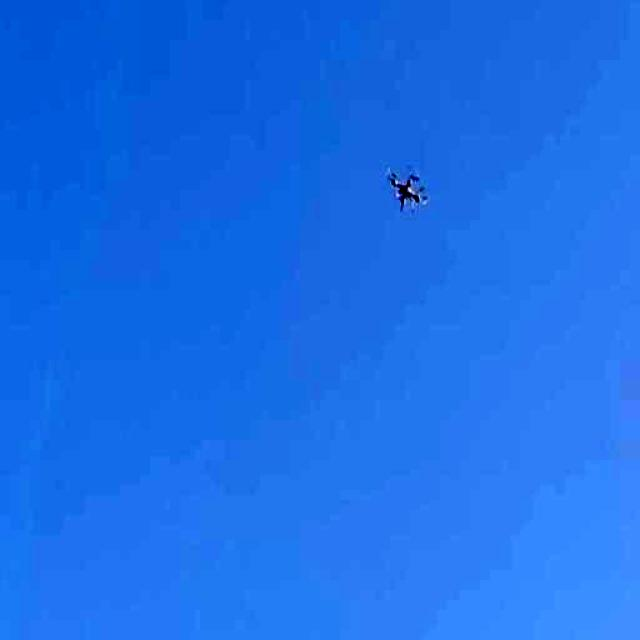bird: (382, 146, 430, 222)
